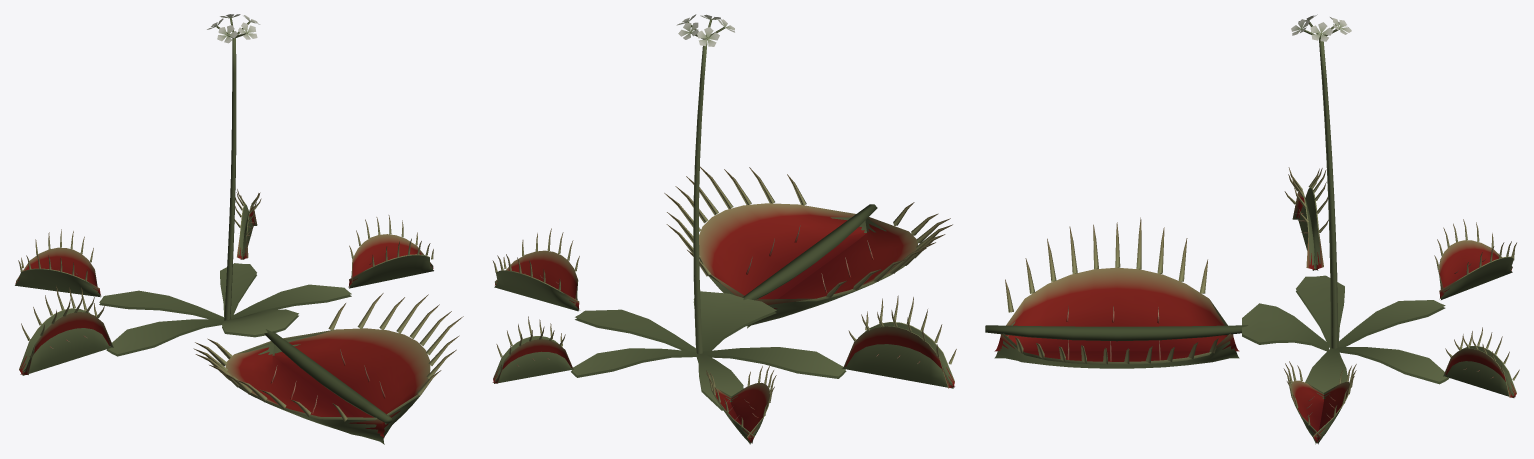
The model's file is flytrap_lo.glb.
3 views of the same model, side by side, from view 1: azimuth 30°, elevation 25°; view 2: azimuth 150°, elevation 25°; view 3: azimuth 270°, elevation 25° (orthographic). The views are drawn at different scales.
Visible parts, largest first — view 1: flytrap_base, flytrap_lobe_l, flytrap_lobe_r; view 2: flytrap_base, flytrap_lobe_l, flytrap_lobe_r; view 3: flytrap_base, flytrap_lobe_r, flytrap_lobe_l.
Boxes of the visible parts, left/top/right/bottom form: flytrap_base: left=15, top=14, right=433, bottom=423; flytrap_lobe_l: left=273, top=293, right=463, bottom=444; flytrap_lobe_r: left=193, top=338, right=384, bottom=444; flytrap_base: left=492, top=14, right=956, bottom=444; flytrap_lobe_l: left=664, top=166, right=866, bottom=328; flytrap_lobe_r: left=748, top=202, right=952, bottom=326; flytrap_base: left=985, top=14, right=1519, bottom=444; flytrap_lobe_r: left=996, top=217, right=1238, bottom=358; flytrap_lobe_l: left=994, top=333, right=1239, bottom=368.
Bounding box in the file's own units: 4.71 × 3.38 × 4.79.
